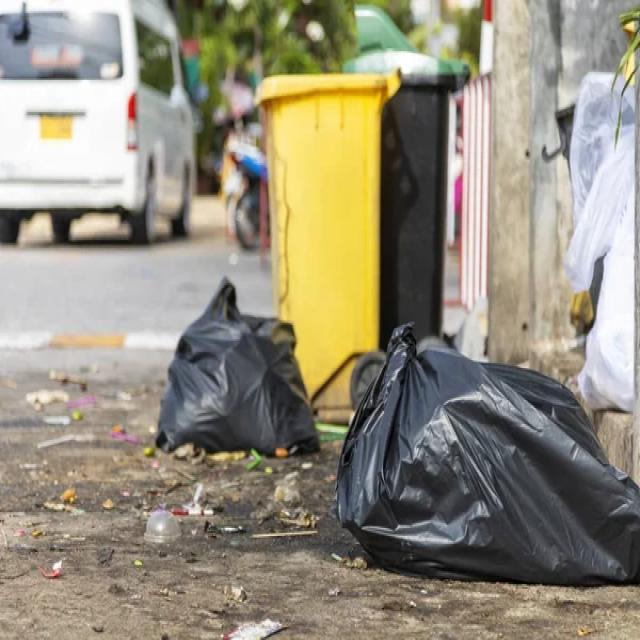garbage: (59, 300, 616, 624)
